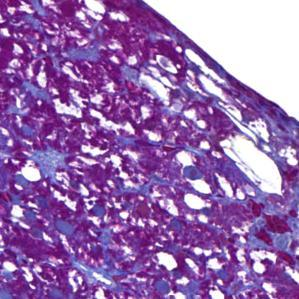ballooning: (218, 133, 284, 199)
